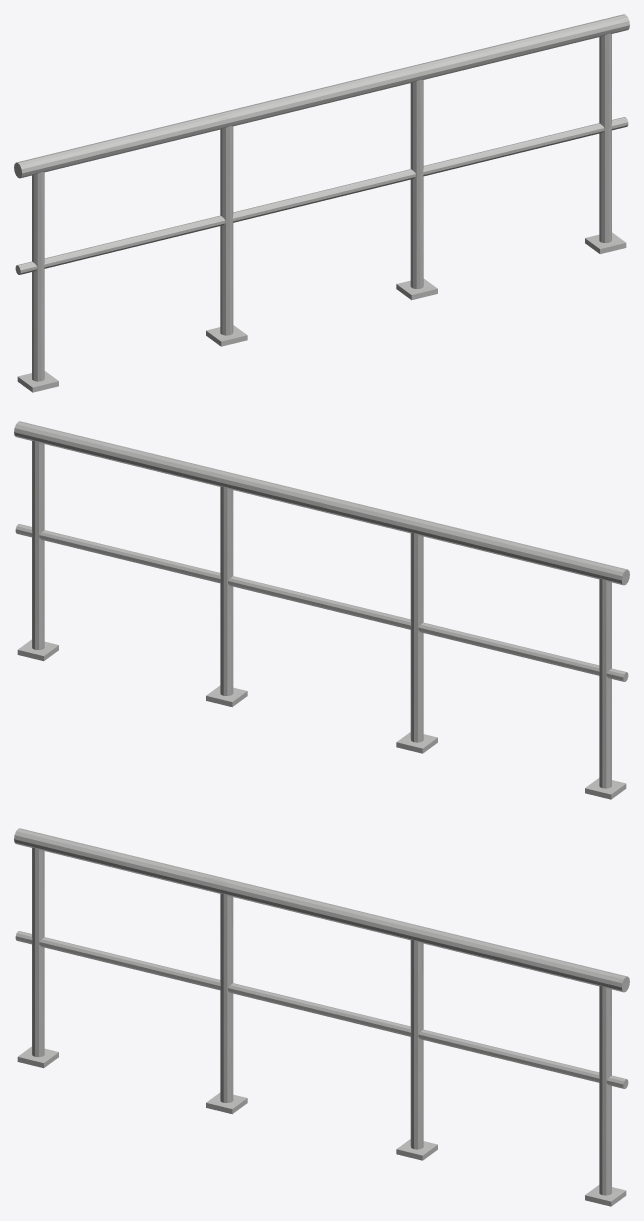
The model's file is railing.gltf.
The picture shows the model from 3 angles, top to bottom: view 1: azimuth 30°, elevation 25°; view 2: azimuth 150°, elevation 25°; view 3: azimuth 330°, elevation 25°; orthographic projection.
Parts seen in each view (by area): view 1: jx_railing; view 2: jx_railing; view 3: jx_railing.
Boxes of the visible parts, box(x1,y1,x2,y2) form: jx_railing: box(14, 14, 629, 392); jx_railing: box(14, 421, 629, 799); jx_railing: box(14, 828, 629, 1206).
Bounding box in the file's own units: 3 × 1.07 × 0.13.
1 material, 1 textured.
